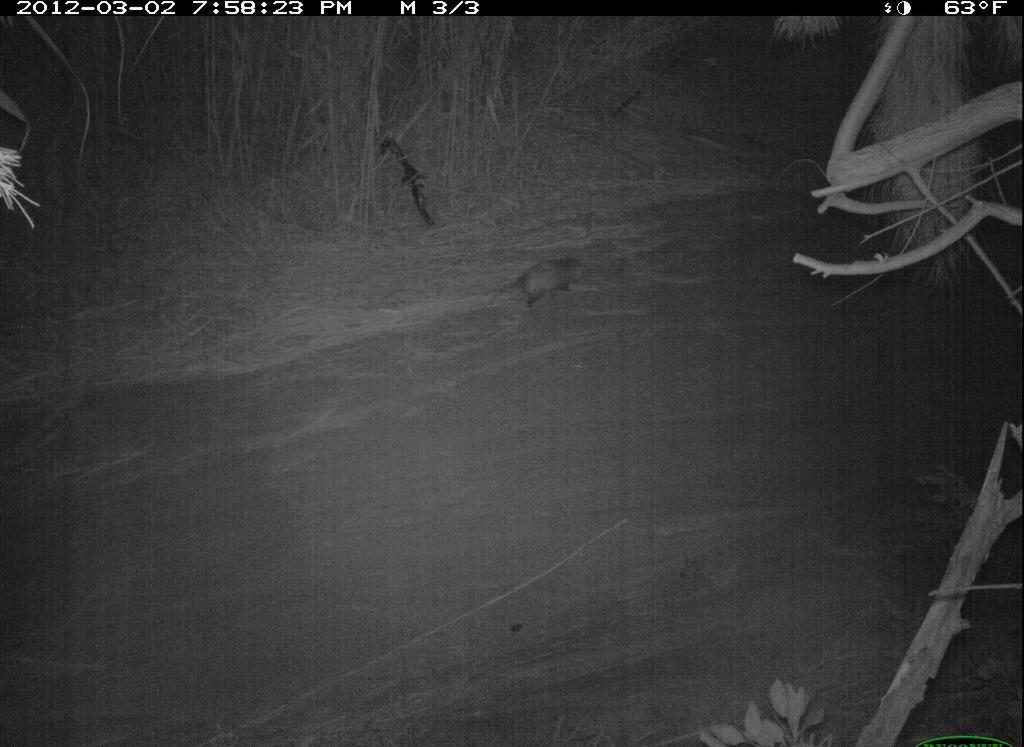opossum: (486, 235, 598, 321)
